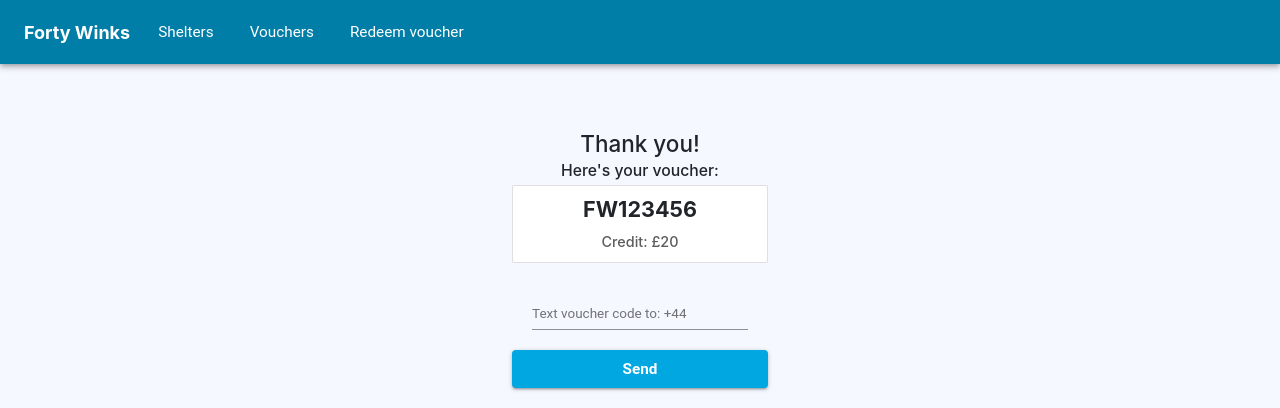
Test: voucher confirmation › renders sms sent confirmation message
This screenshot has width=1280, height=408.
Type "7777777777" into the field with id "sms-number" at [640, 315], box [532,299,748,330]
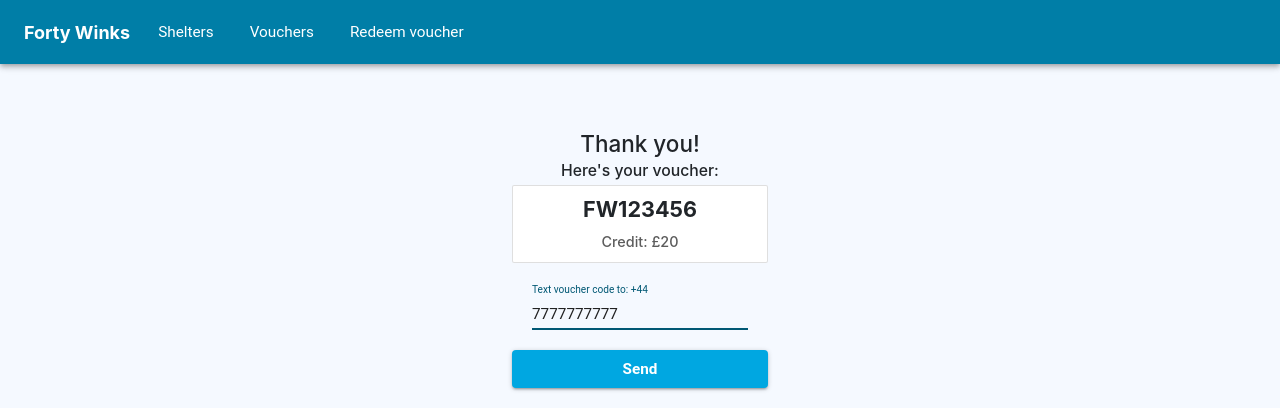
Click the button with class "send-sms" at [640, 370], box [512,350,768,389]
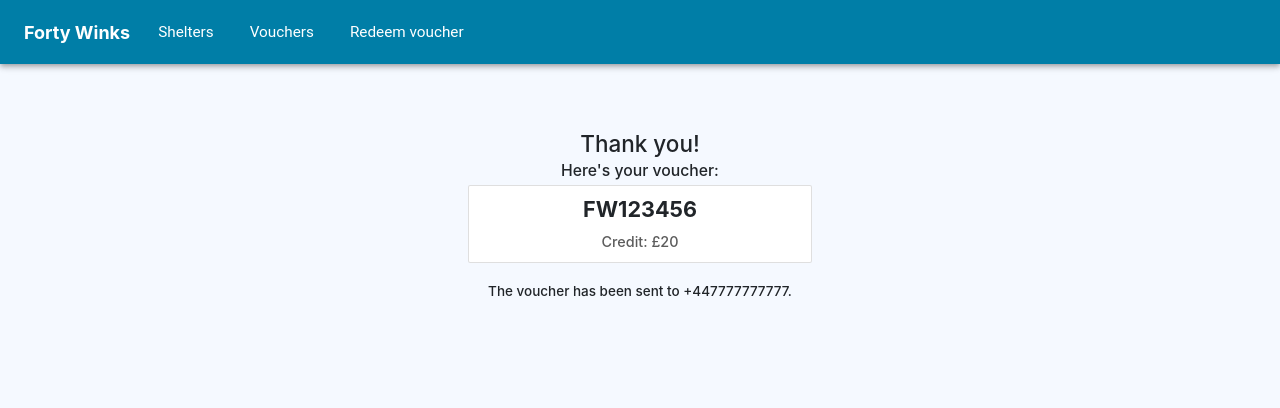
Check: the heading "The voucher has been sent to +447777777777." is shown, box [488,283,792,299]
